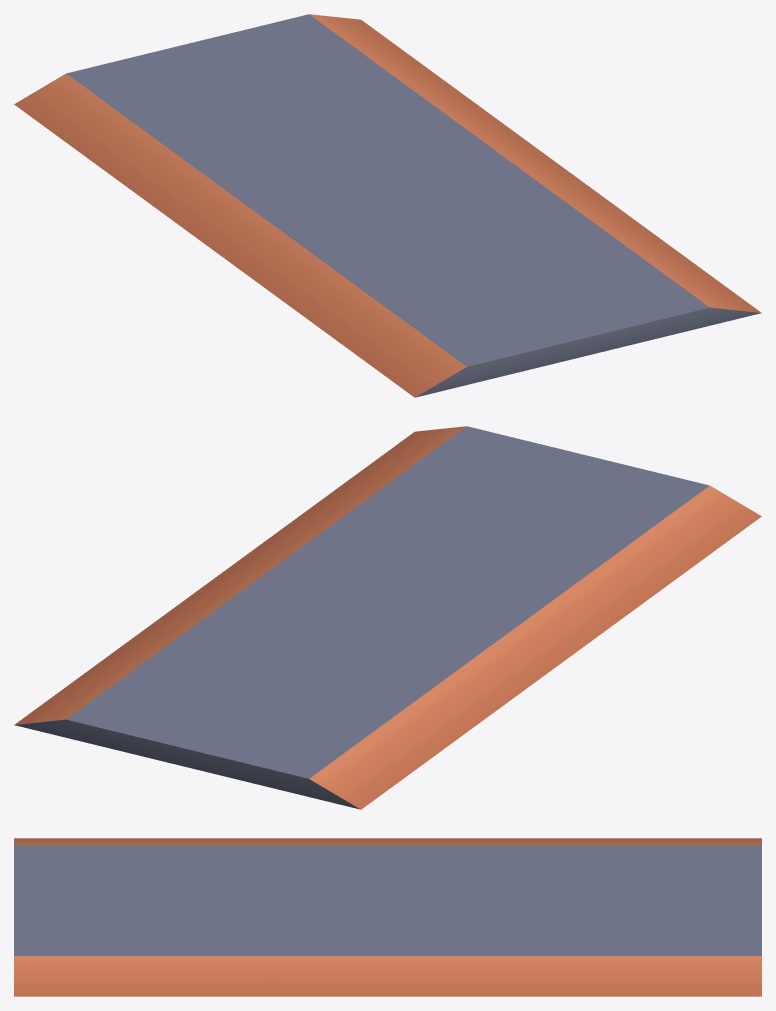
Rendered from path-long.glb.
The picture shows the model from 3 angles, top to bottom: view 1: azimuth 30°, elevation 25°; view 2: azimuth 150°, elevation 25°; view 3: azimuth 270°, elevation 25°; orthographic projection. The views are drawn at different scales.
Parts seen in each view (by area): view 1: path-long; view 2: path-long; view 3: path-long.
Boxes of the visible parts, <box> form: path-long: <box>14,14,761,397</box>; path-long: <box>14,426,761,809</box>; path-long: <box>14,838,761,996</box>.
Size of the model in its own units: 0.2 by 0.01 by 0.4.
1 material, 1 textured.
